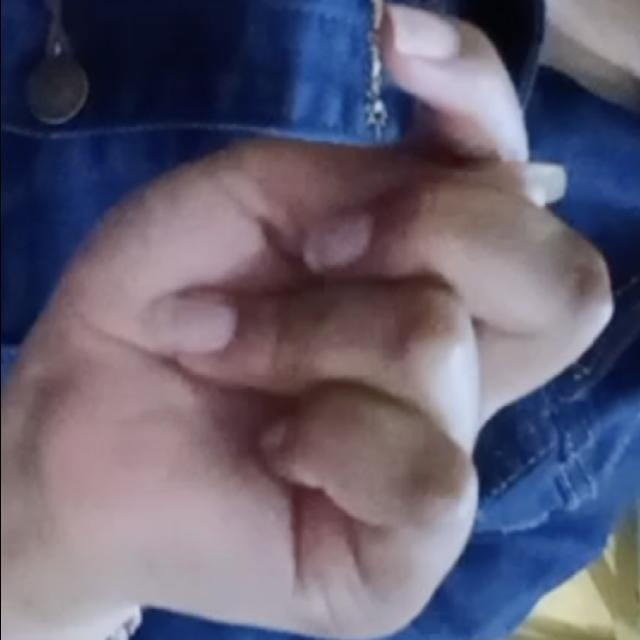T: (10, 2, 622, 639)
